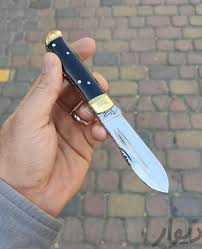Knife: (38, 25, 178, 196)
